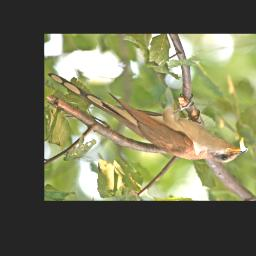Cuckoo: (46, 72, 252, 164)
